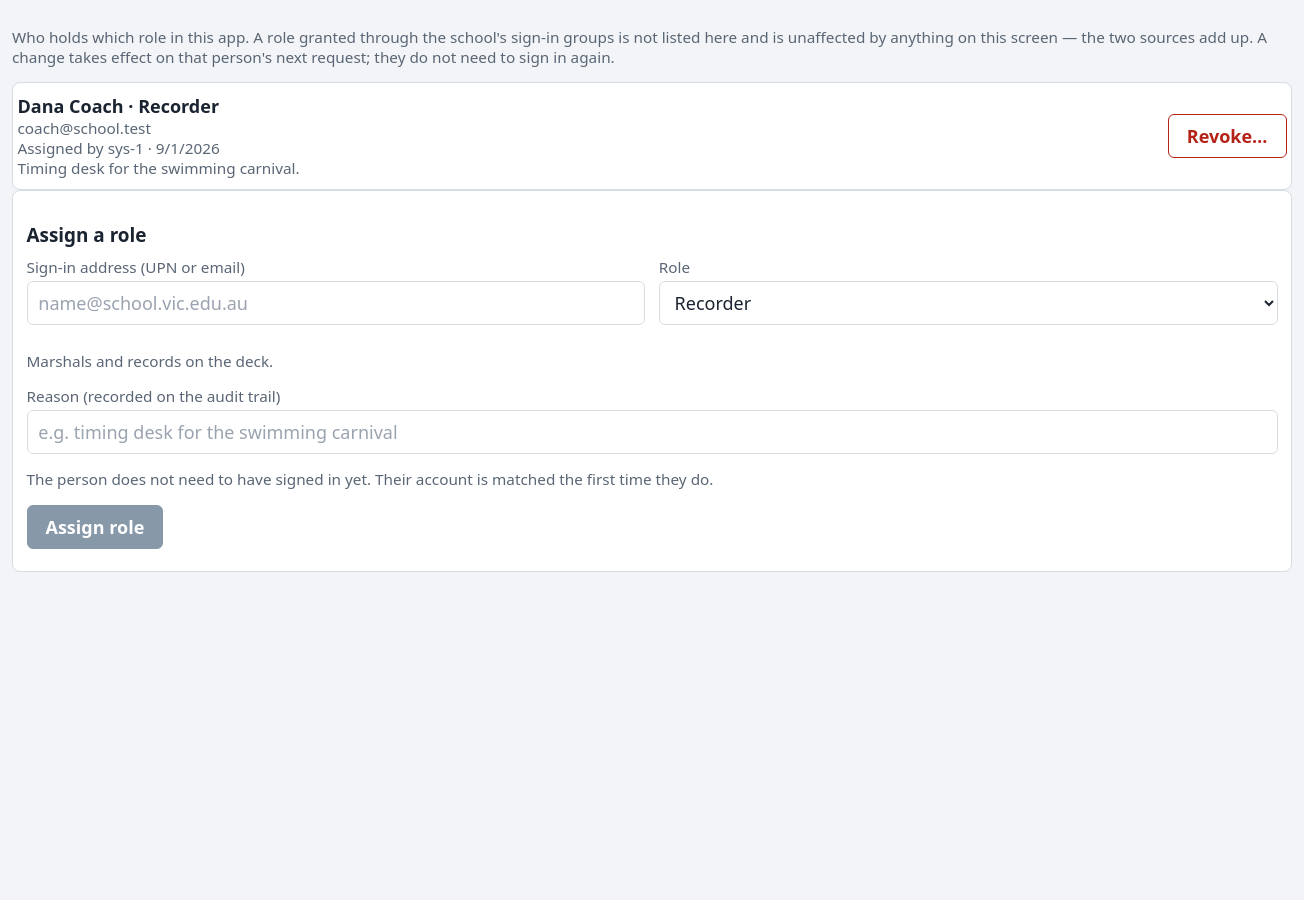
Test: RolesSection › names the person and the role in the revoke confirmation
Click the button with aria-label "Revoke Recorder for Dana Coach" at (1227, 136), box left=1168, top=114, right=1286, bottom=158
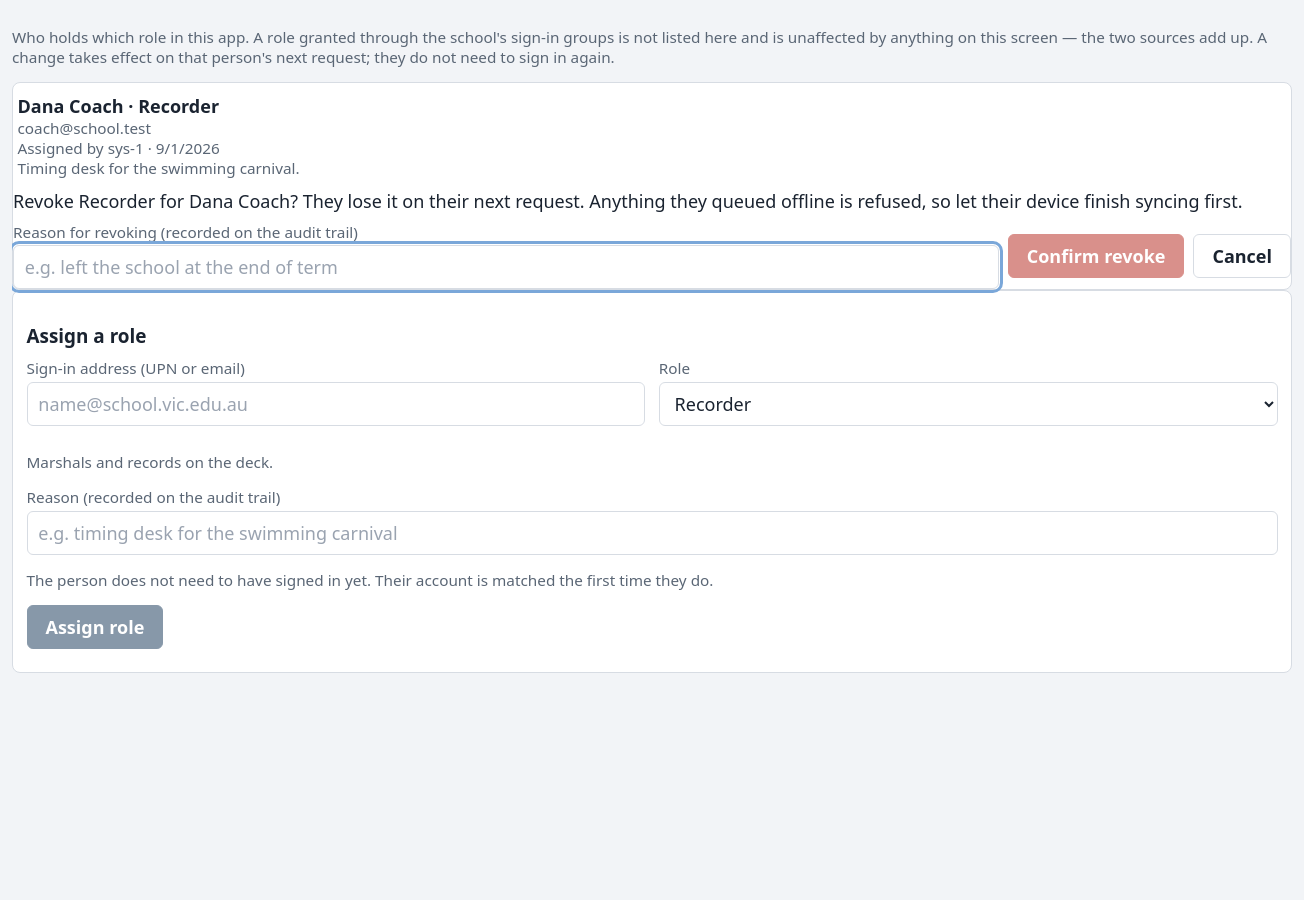
Expected: the text "Revoke Recorder for Dana Coach?" is shown, left=13, top=189, right=1291, bottom=213
Expected: the button with aria-label "Confirm revoking Recorder for Dana Coach" is disabled, left=1008, top=234, right=1184, bottom=278
